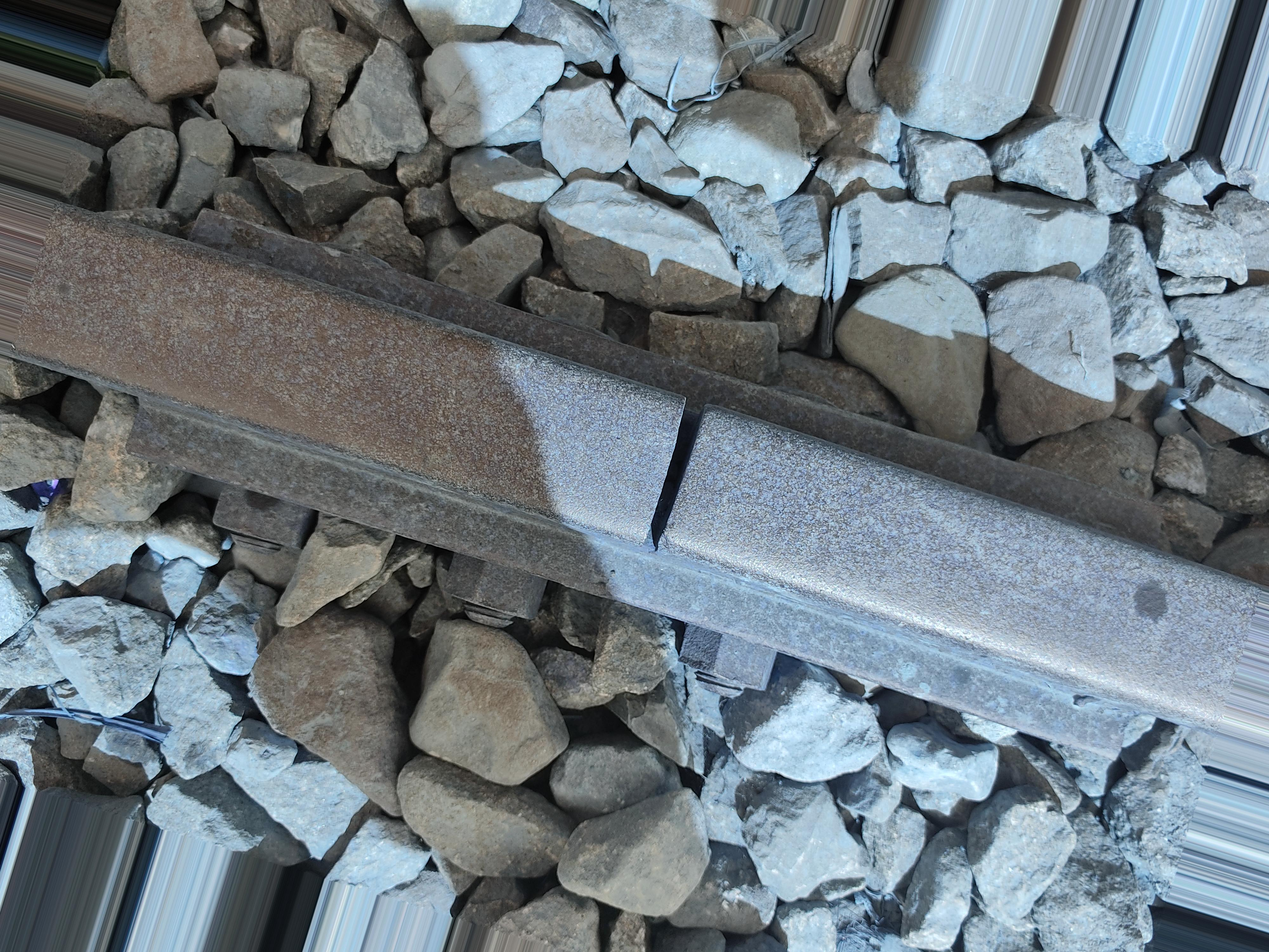tracks_fault: (590, 297, 825, 577)
